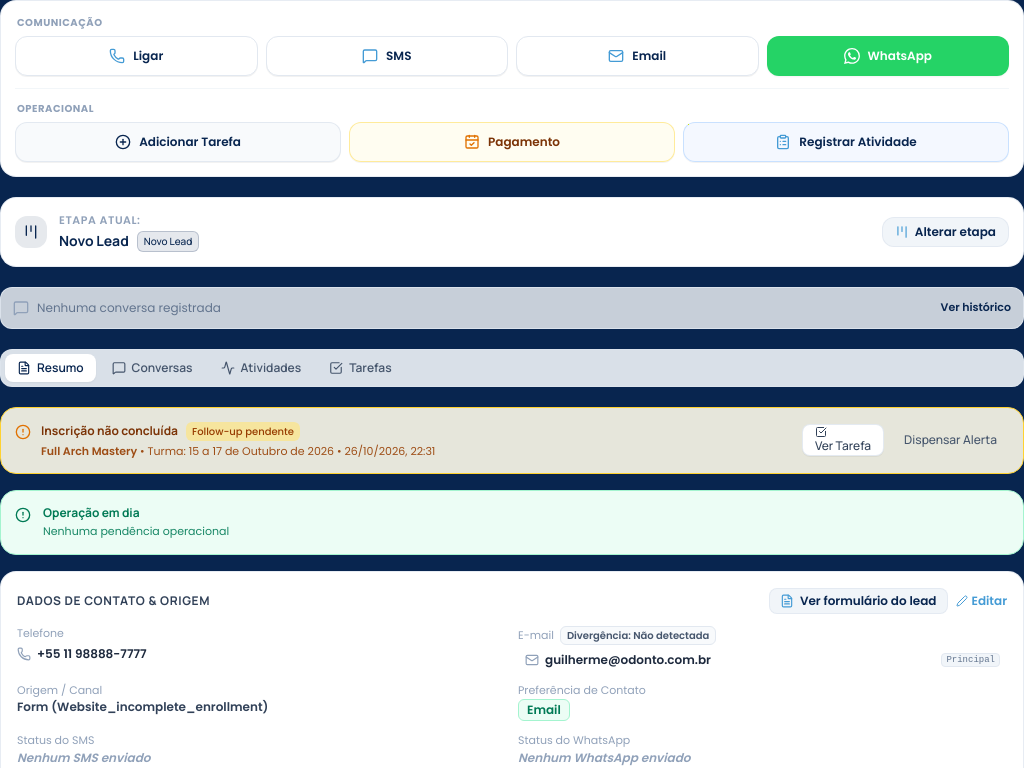
Batch 6: Incomplete Enrollment Capture Architecture › 1. UI Integration: Lead Profile Compact Alert Banner › navigates to Tarefas tab when clicking Ver Tarefa
Click the button "Ver Tarefa".
click(843, 440)  # box x1=802 y1=424 x2=884 y2=456
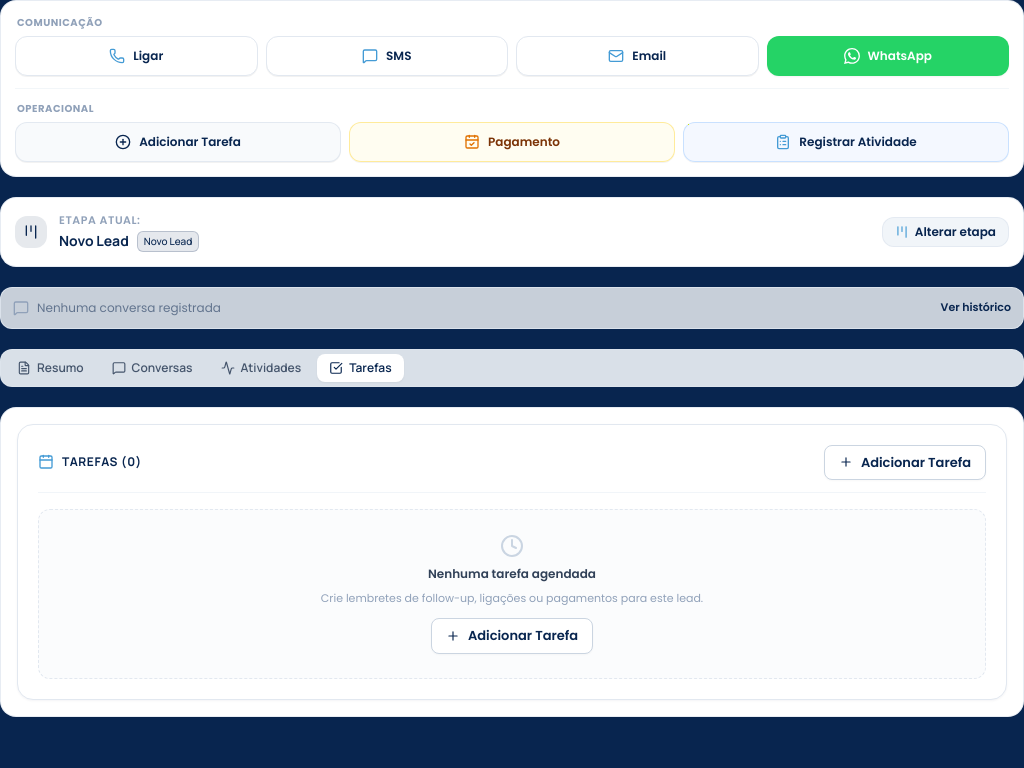
Expected: the text "Nenhuma tarefa agendada" is shown, x1=428 y1=566 x2=596 y2=582
